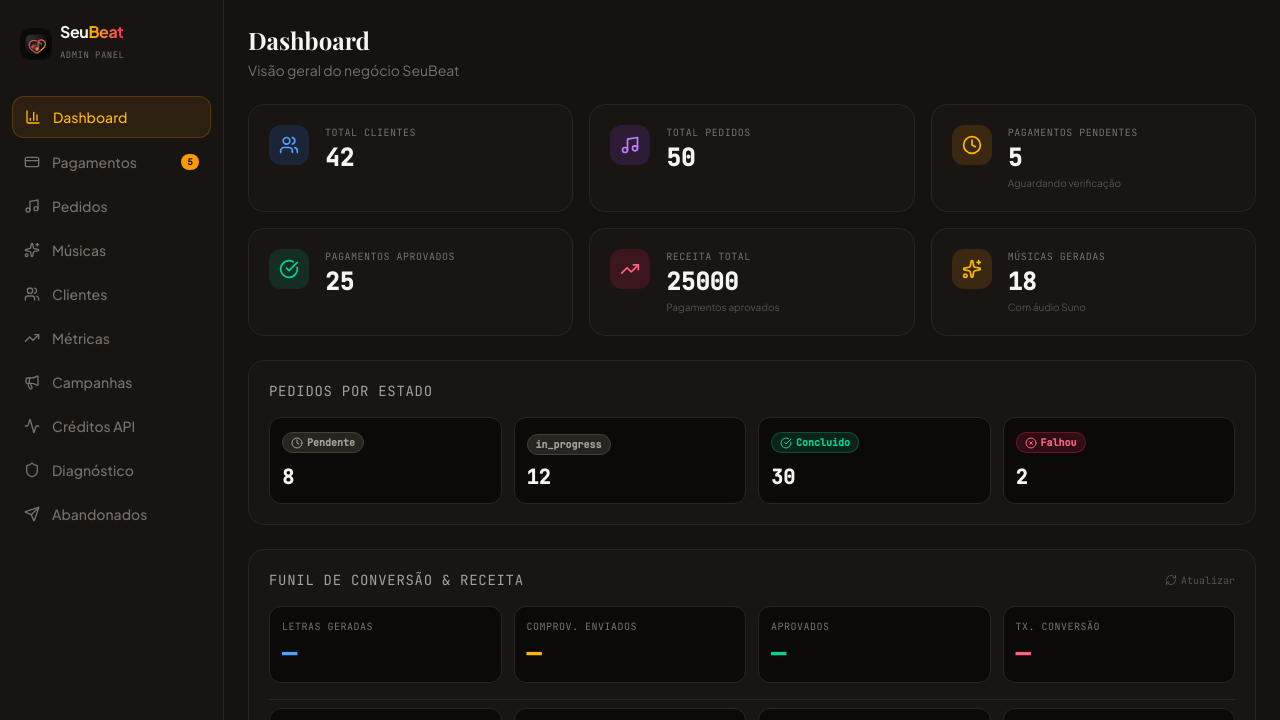
AdminPanel › Payment Management › shows undo button for approved payments
The width and height of the screenshot is (1280, 720).
Click the button "Pagamentos 5".
click(112, 162)  # box [12,142,211,182]
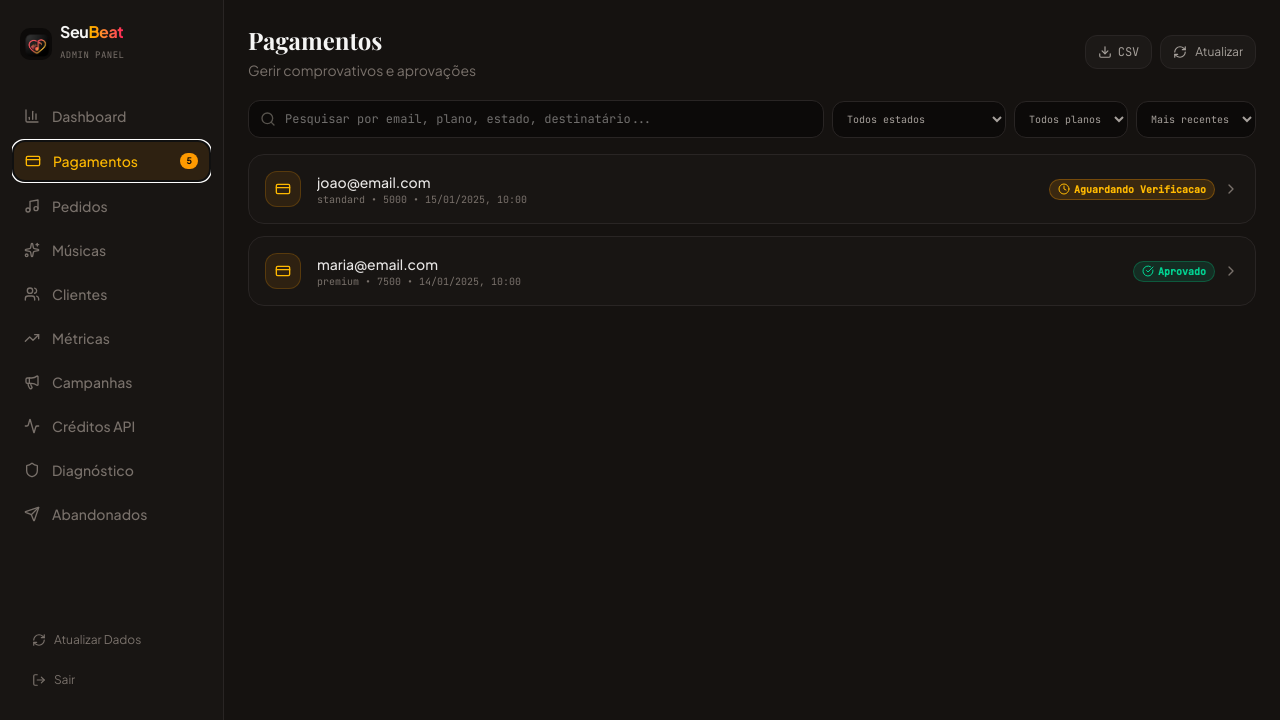
Now the text "maria@email.com" is shown, box [317,254,438,272]
Click the text "maria@email.com premium • 7500 • 14/01/2025, 10:00 Aprovado".
click(283, 271)  # box [265,253,1239,289]
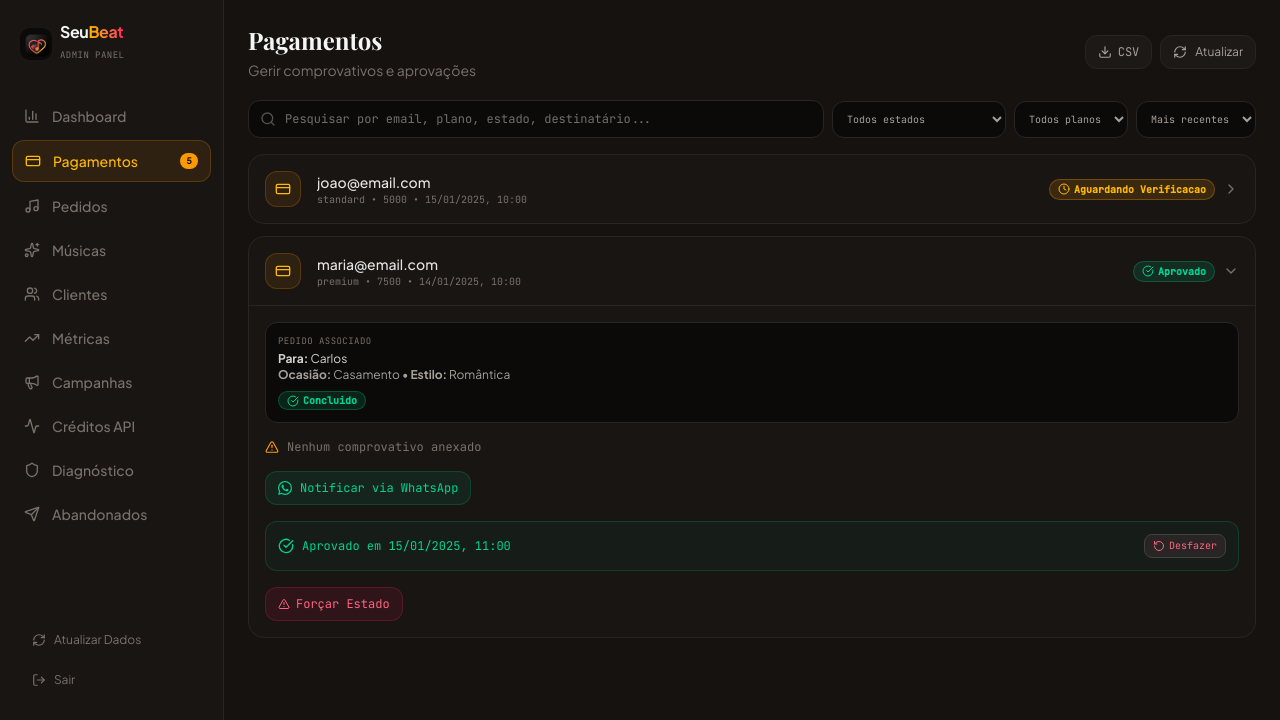
Now the button "Desfazer" is shown
Click the button "Desfazer".
click(1185, 546)  # box [1144,534,1226,558]
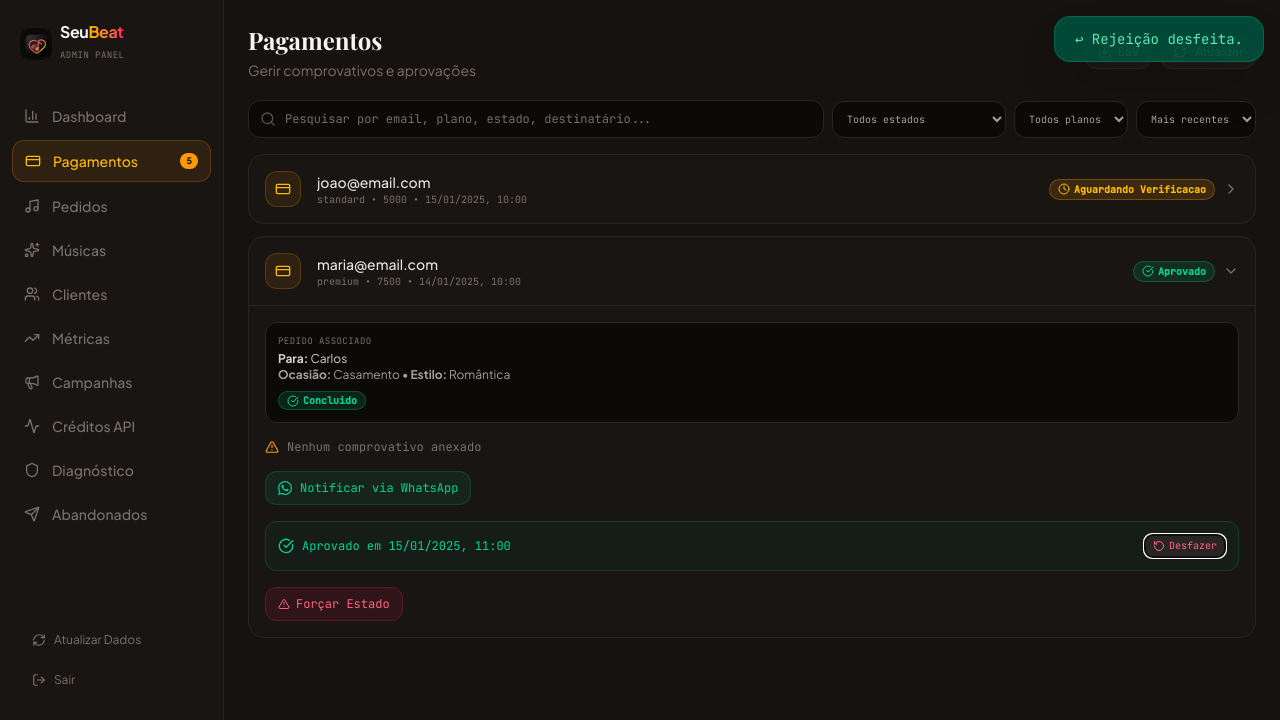
Now the text "Rejeição desfeita" is shown, box [1075,30,1243,48]
